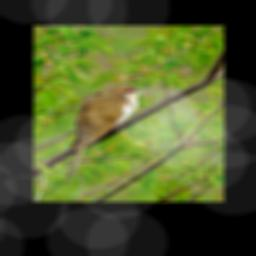Cuckoo: (64, 84, 149, 186)
